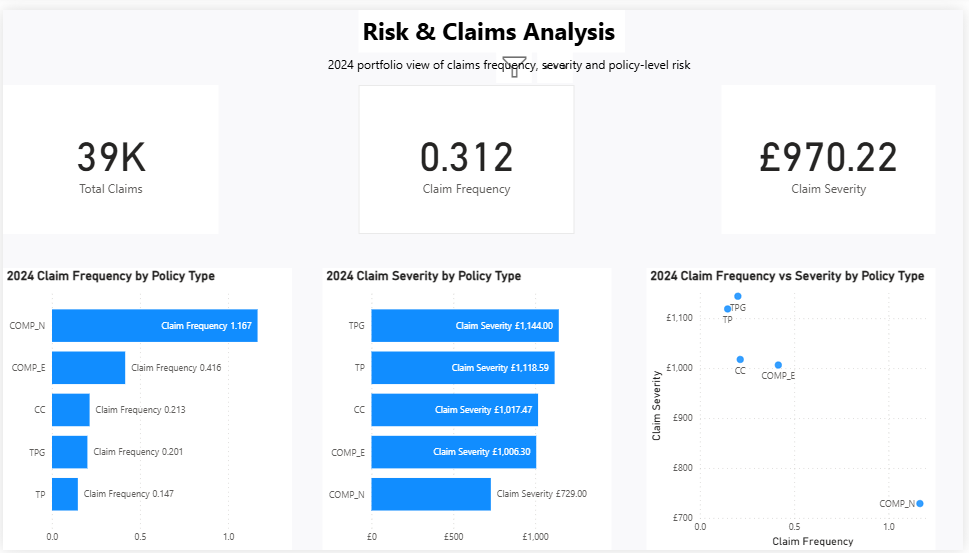

This screenshot's page, from the dashboard's own definition file:
{"tool":"powerbi","page":{"name":"Risk & Claims Analysis.","canvas":[1280,720],"ordinal":1},"visuals":[{"type":"clusteredBarChart","title":"2024 Claim Frequency by Policy Type","fields":{"Category":["analytics vw_policy_type_performance.policy_type"],"Y":["analytics vw_policy_type_performance.Claim Frequency"]},"box":[0,343.9,385.5,376.1],"z":0},{"type":"clusteredBarChart","title":"2024 Claim Severity by Policy Type","fields":{"Category":["analytics vw_policy_type_performance.policy_type"],"Y":["analytics vw_policy_type_performance.Claim Severity"]},"box":[425.2,343.9,385.5,376.1],"z":1000},{"type":"scatterChart","title":"2024 Claim Frequency vs Severity by Policy Type","fields":{"X":["analytics vw_policy_type_performance.Claim Frequency"],"Y":["analytics vw_policy_type_performance.Claim Severity"],"Category":["analytics vw_policy_type_performance.policy_type"]},"box":[858,343.9,385.5,376.1],"z":2000},{"type":"card","fields":{"Values":["Sum(analytics vw_policy_type_performance.total_claims)"]},"box":[0,100.2,287.2,198.4],"z":3000},{"type":"card","fields":{"Values":["analytics vw_policy_type_performance.Claim Frequency"]},"box":[474.3,100.2,287.2,198.4],"z":4000},{"type":"card","fields":{"Values":["analytics vw_policy_type_performance.Claim Severity"]},"box":[958.1,100.2,285.4,198.4],"z":5000},{"type":"textbox","box":[474.3,0,355.3,56.7],"z":6000},{"type":"textbox","box":[429,56.7,510.2,43.5],"z":7000}]}

Visuals, with their boxes in screenshot pixels (x1, y1, x2, y2), scaled from the page's 1280x720 canvas onto the 969x553 screenshot:
"2024 Claim Frequency by Policy Type" clusteredBarChart: BBox(0, 264, 292, 552)
"2024 Claim Severity by Policy Type" clusteredBarChart: BBox(322, 264, 614, 552)
"2024 Claim Frequency vs Severity by Policy Type" scatterChart: BBox(650, 264, 941, 552)
card - Sum(analytics vw_policy_type_performance.total_claims): BBox(0, 77, 217, 229)
card - analytics vw_policy_type_performance.Claim Frequency: BBox(359, 77, 576, 229)
card - analytics vw_policy_type_performance.Claim Severity: BBox(725, 77, 941, 229)
textbox: BBox(359, 0, 628, 44)
textbox: BBox(325, 44, 711, 77)
